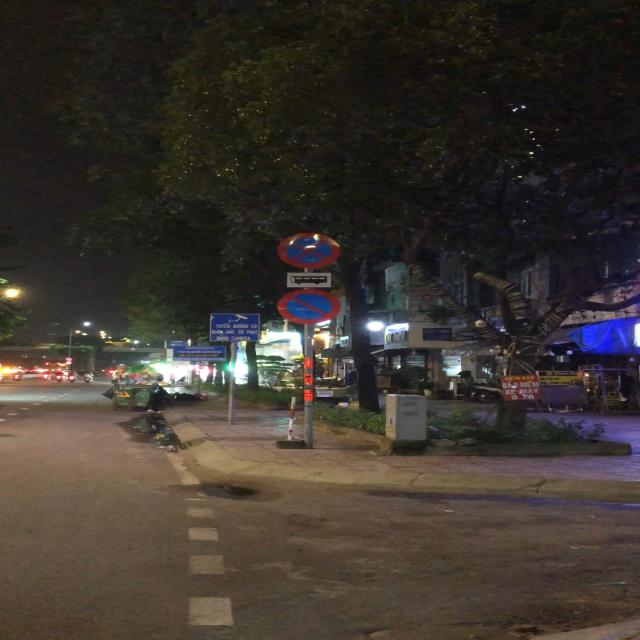Bien bao cam do xe: (276, 288, 344, 326)
Bien bao cam dung xe va do xe: (273, 230, 349, 271)
